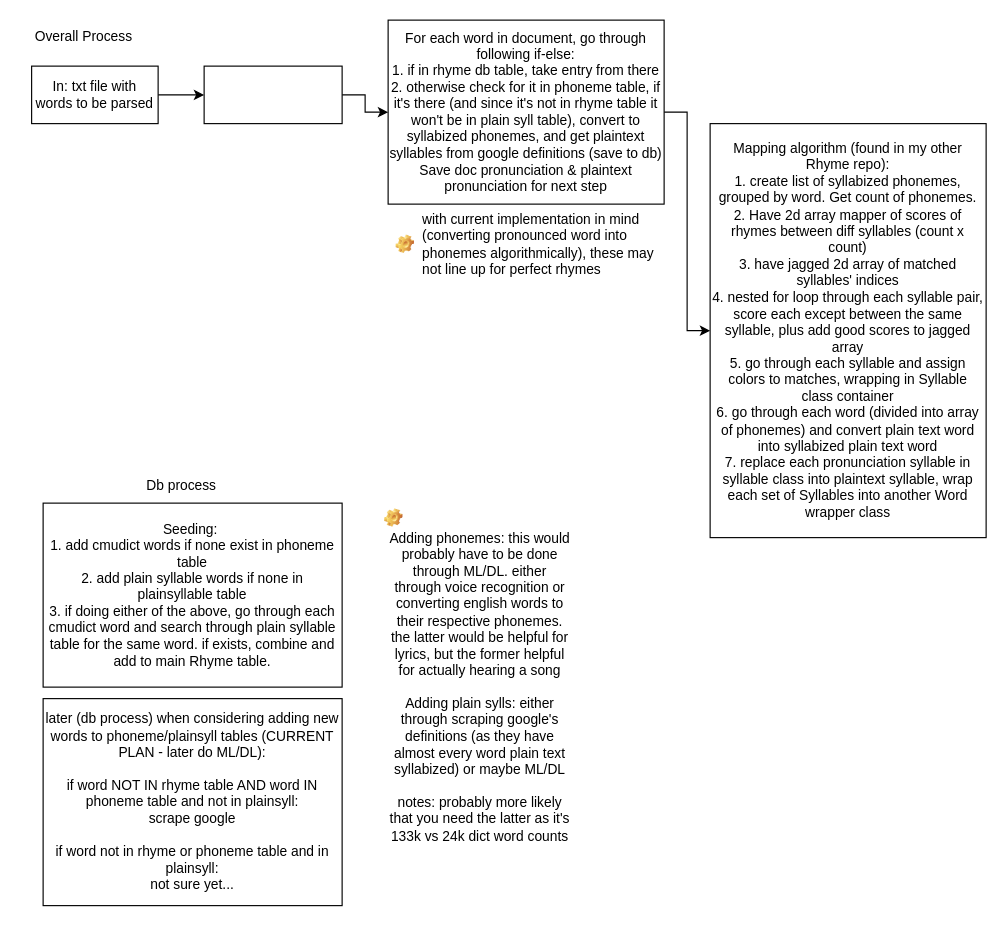
Some shapes in this 1006 by 926 pixel diagram are drawn without their labels. Here are the shapes that lost their labels. From the top down, the box of each, then its label:
(203, 65, 342, 124): Convert to word list
(376, 503, 583, 532): When/how to add words:
